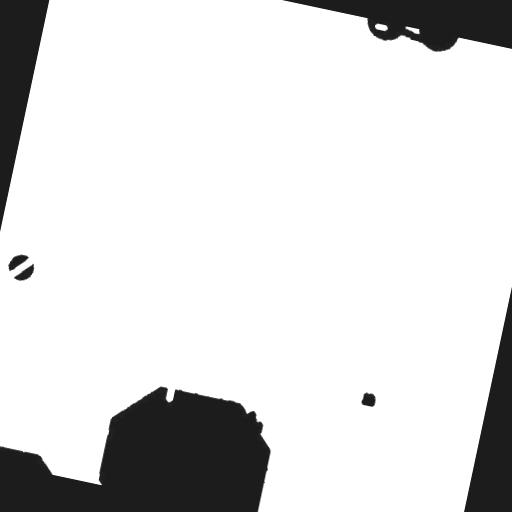copper: (350, 382, 384, 416)
mousebite: (155, 373, 184, 411)
open: (0, 241, 45, 292)
pin-hole: (364, 18, 396, 40)
short: (383, 22, 440, 53)
spur: (233, 400, 274, 444)
